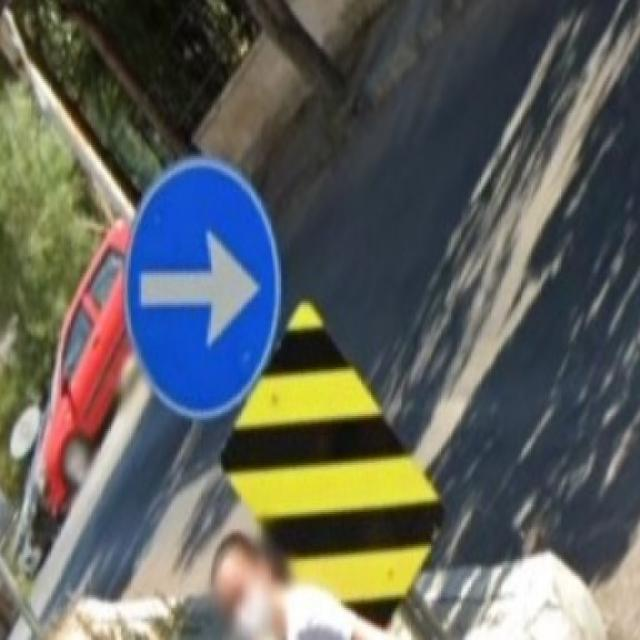Turn Right: (122, 170, 288, 417)
